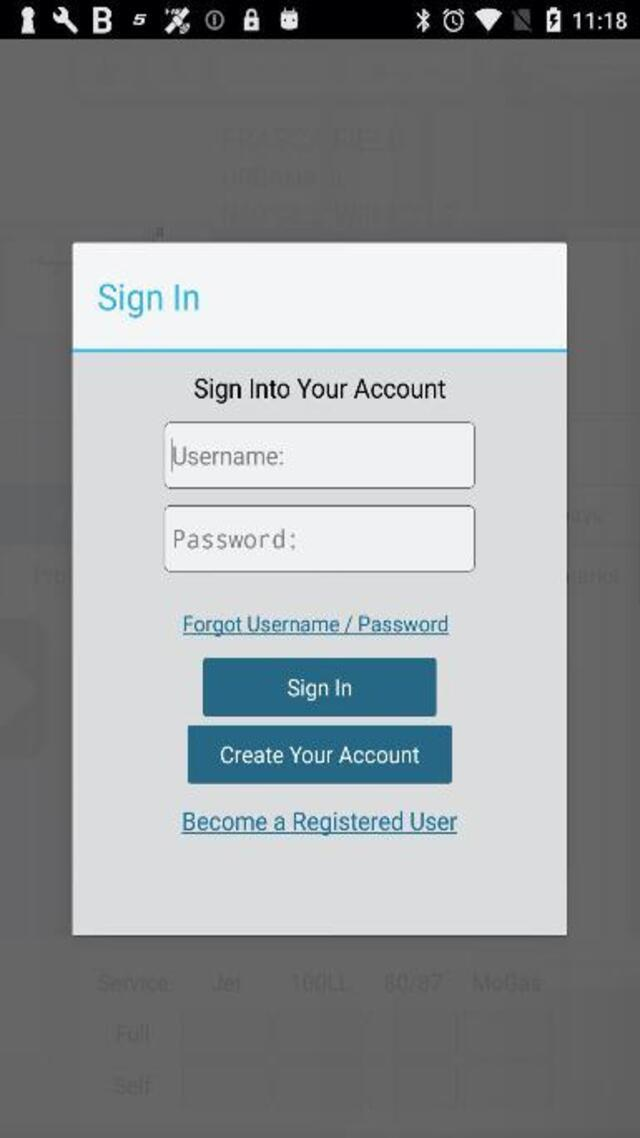Text: (181, 812, 457, 835), (194, 378, 443, 401), (183, 614, 449, 634), (217, 743, 425, 768), (100, 284, 200, 318), (174, 529, 294, 549), (174, 445, 282, 465), (284, 678, 354, 703)
TextButton: (187, 724, 451, 784), (202, 658, 436, 718)
